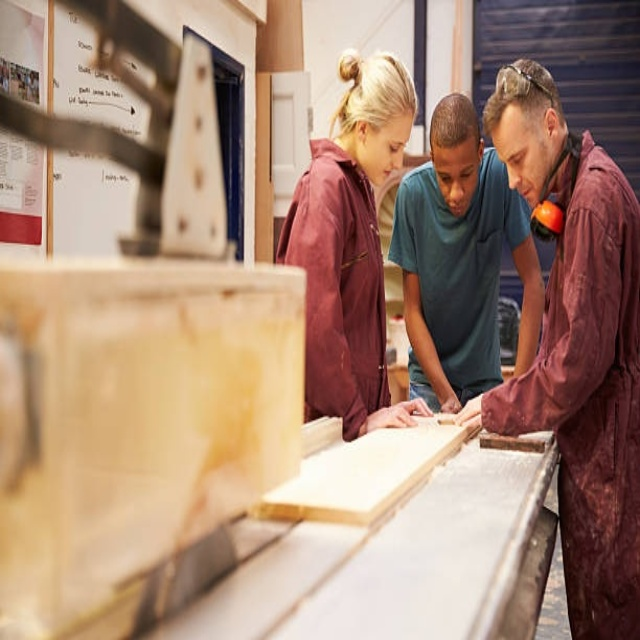Sin_gafas: (435, 158, 479, 184), (500, 133, 530, 169), (378, 130, 408, 160)
Sin_guantes: (363, 392, 435, 433)
Sin_mascara: (513, 179, 540, 204), (443, 193, 470, 216), (372, 160, 395, 184)
